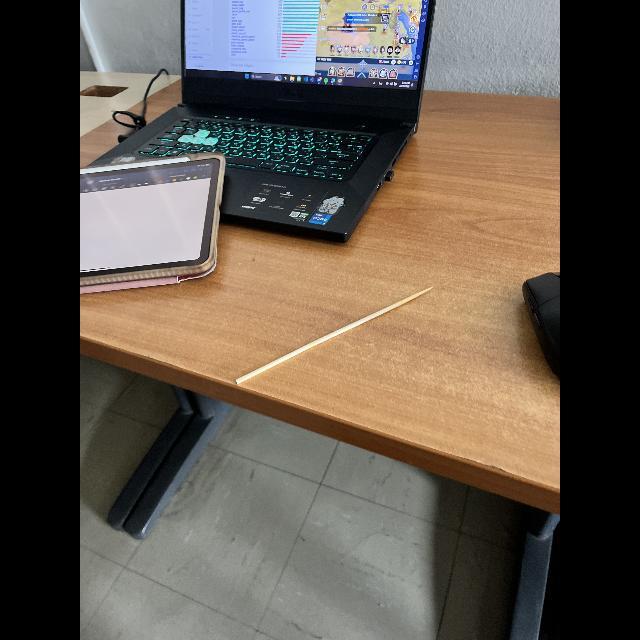stick: (226, 278, 442, 404)
